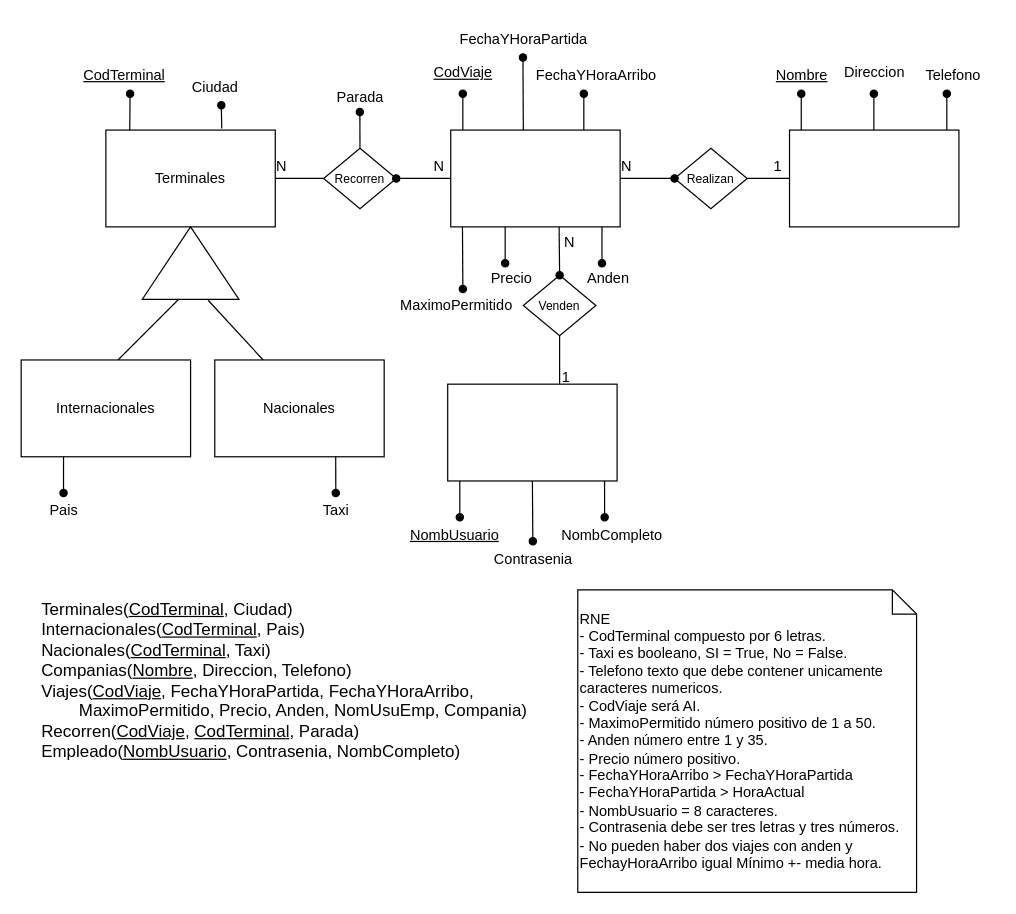
The diagram is 1016 pixels wide and 914 high, and some of its shapes have lost their labels. The shapes that lost their labels are listed below. From the top down, each one's centre as x and y in pixels, then its label:
At point 535,178: "Viajes".
At point 873,178: "Companias".
At point 531,432: "Empleados".
